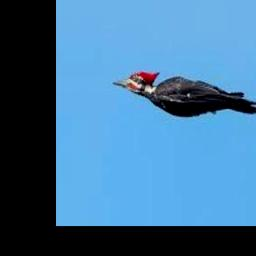Woodpecker: (114, 70, 256, 117)
